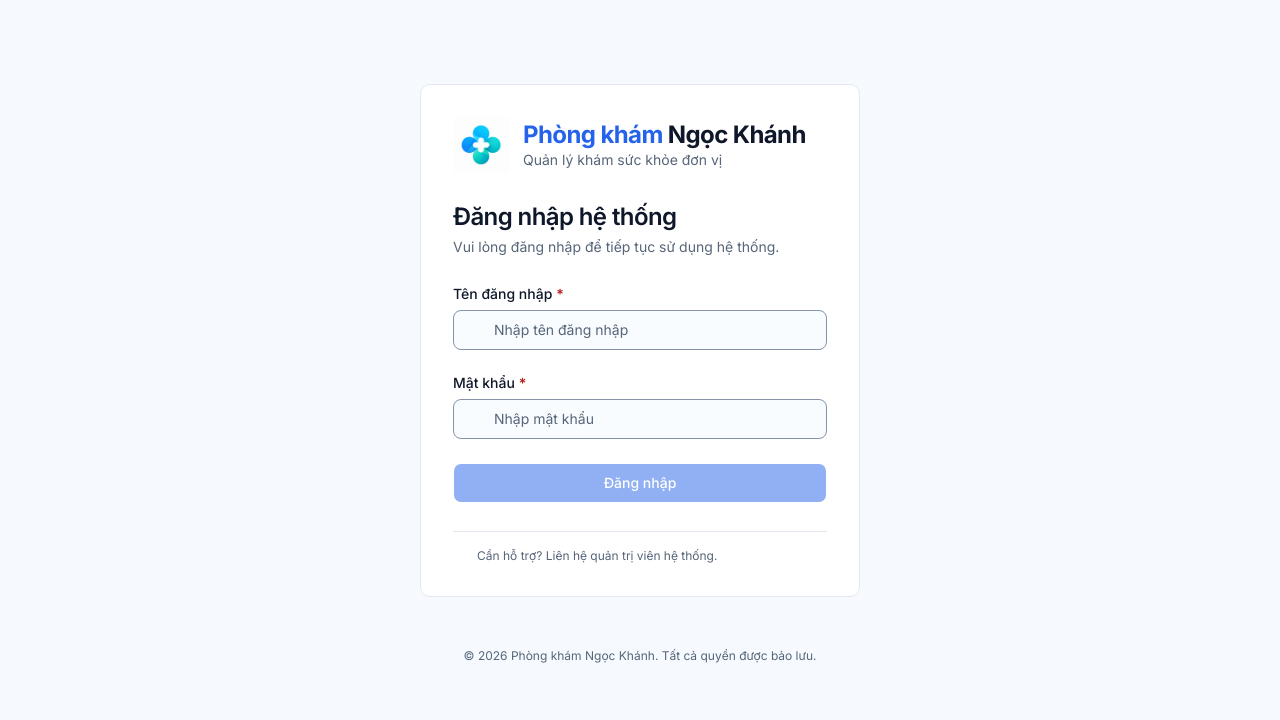
it: staff login screen › shows a generic credential error without redirecting
In the field with placeholder "Nhập tên đăng nhập": (640, 330) [453, 310, 827, 350], type "staff.test"
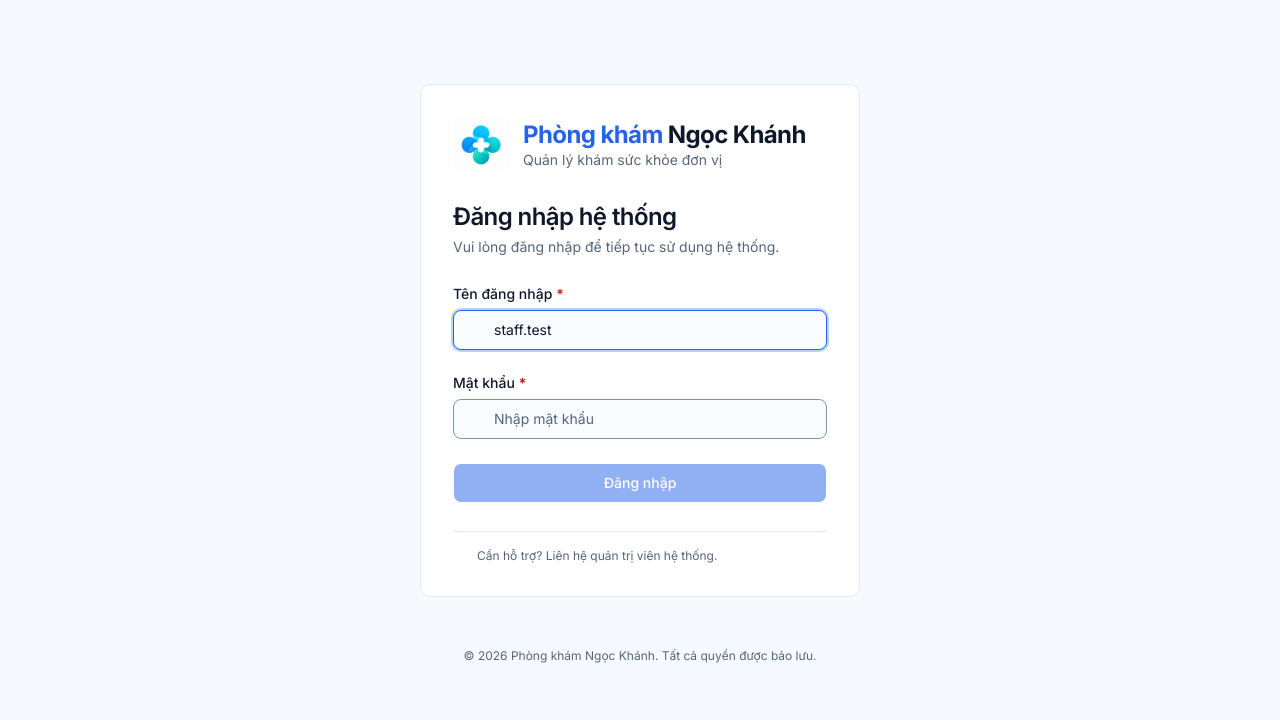
In the password field with placeholder "Nhập mật khẩu": (640, 418) [453, 398, 827, 438], type "secret"
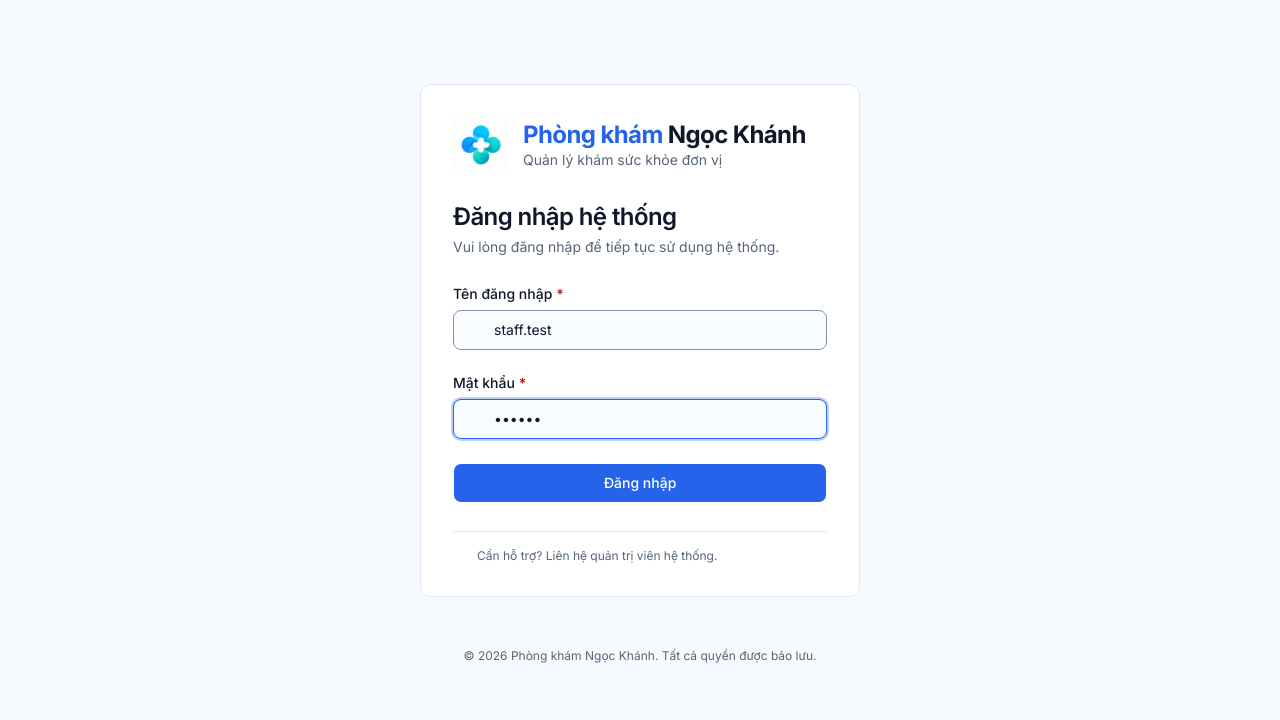
Click the button "Đăng nhập": (640, 482) [453, 462, 827, 502]
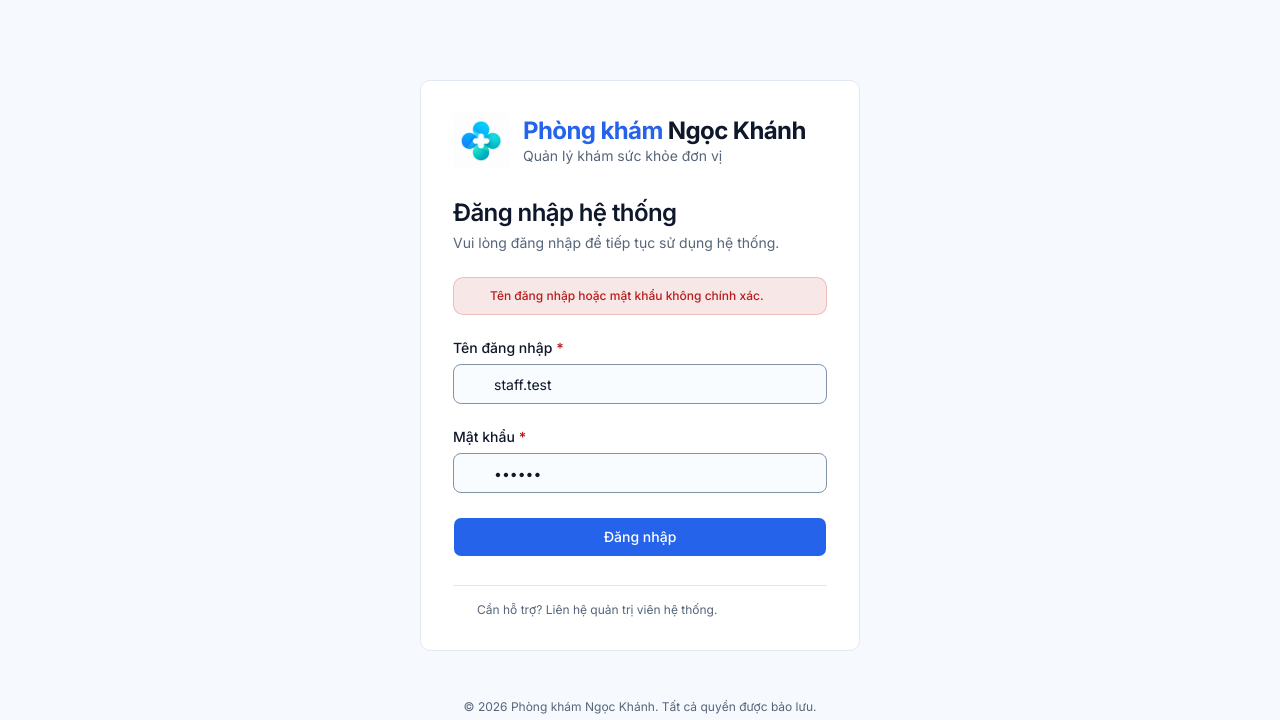
Now the text "Tên đăng nhập hoặc mật khẩu không chính xác." is shown, box [490, 288, 764, 304]
